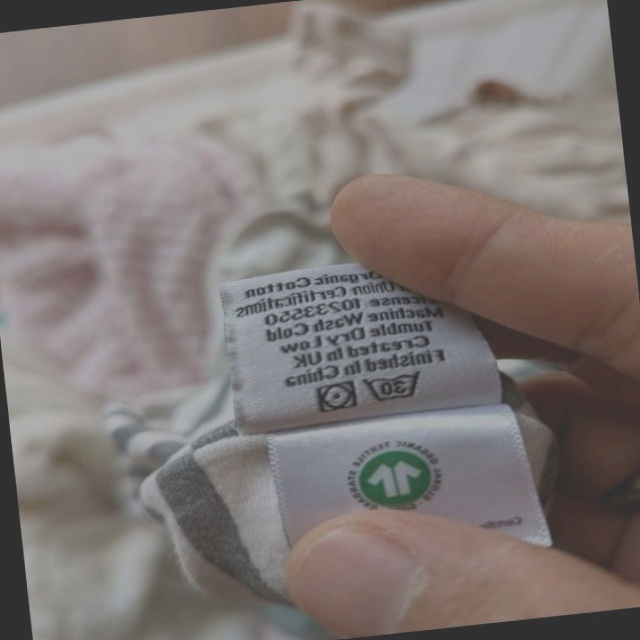30C: (360, 366, 428, 407)
tumble_dry_low: (313, 377, 360, 417)
